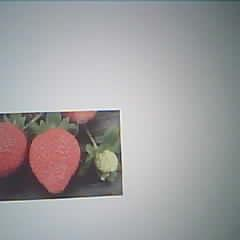straw-ripe: (29, 130, 80, 193), (0, 120, 28, 174)
straw-unripe: (96, 148, 119, 173)
